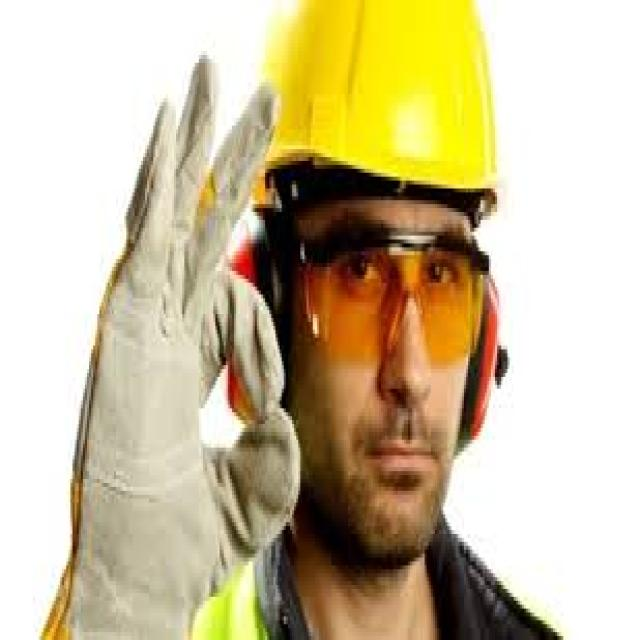glasses: (294, 216, 487, 366)
